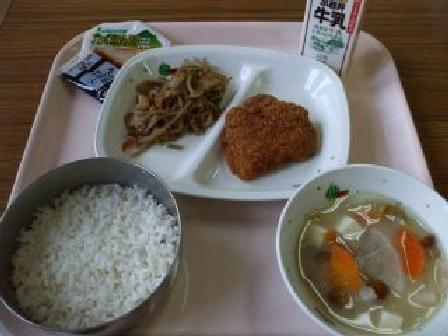Milk: (292, 0, 375, 74)
Rice: (4, 157, 188, 327)
Soups: (272, 169, 447, 331)
cutlet: (224, 87, 328, 179)
salad with sauce: (117, 52, 229, 154)
